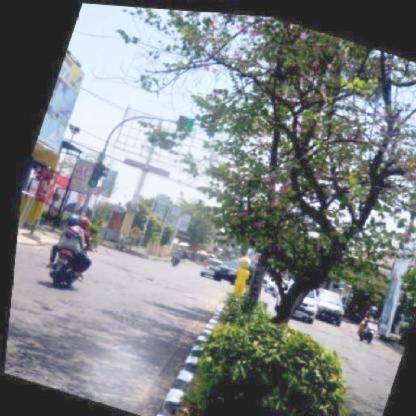Traffic Light -Green-: (82, 160, 100, 188)
